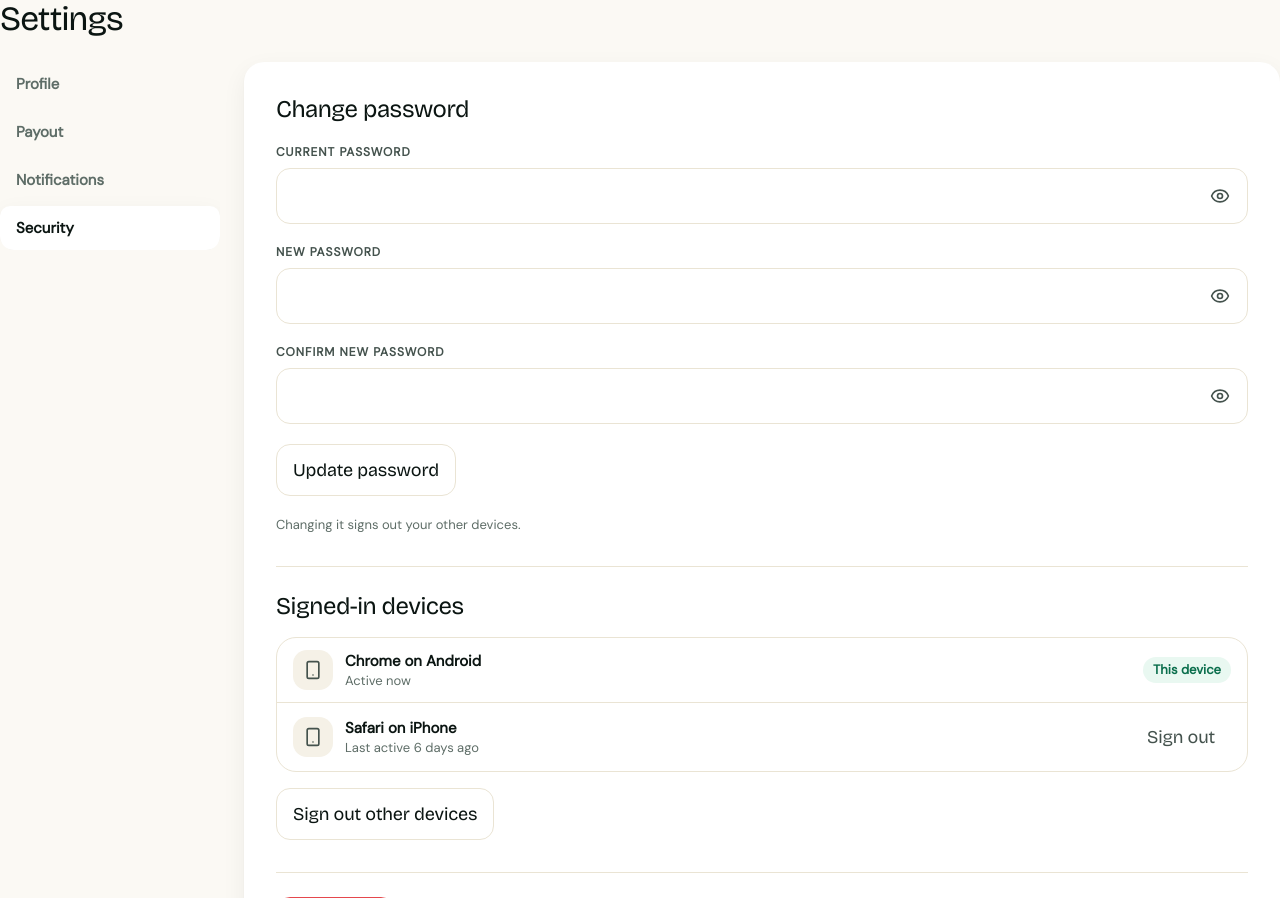
Test: S13 settings: security › lists devices, signs one out, and signs out the rest
Check: the text "This device" is shown, box left=1143, top=657, right=1231, bottom=683
Check: the text "Active now" is shown, box left=345, top=672, right=411, bottom=689
Click the button named "Sign out Safari on iPhone": (1181, 737) left=1131, top=715, right=1231, bottom=759
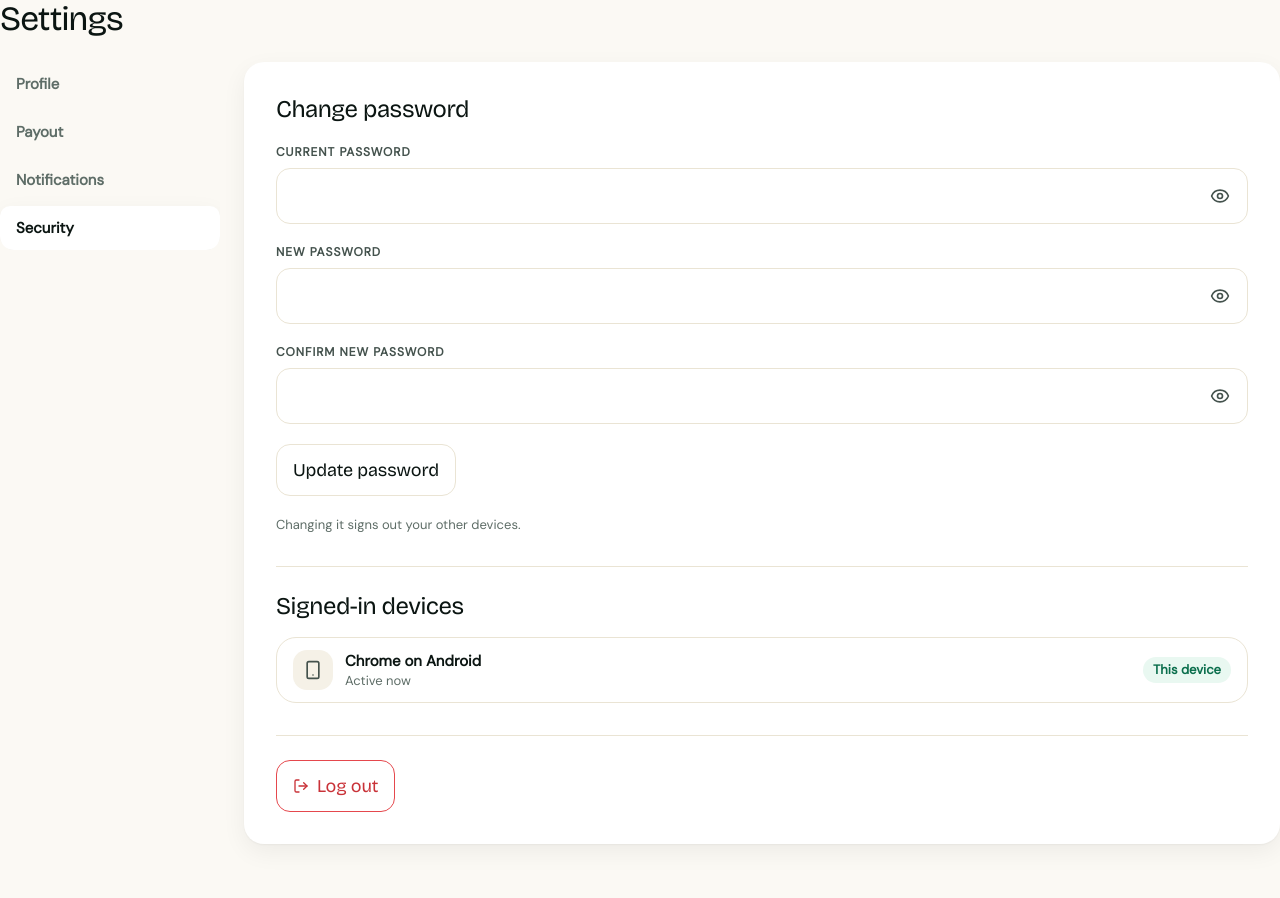
Check: the text "Safari on iPhone" is gone
Check: the button "Sign out other devices" is gone
